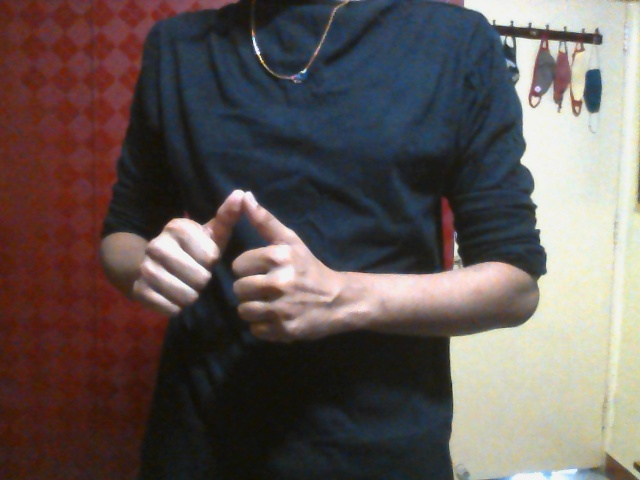A: (131, 189, 342, 345)
